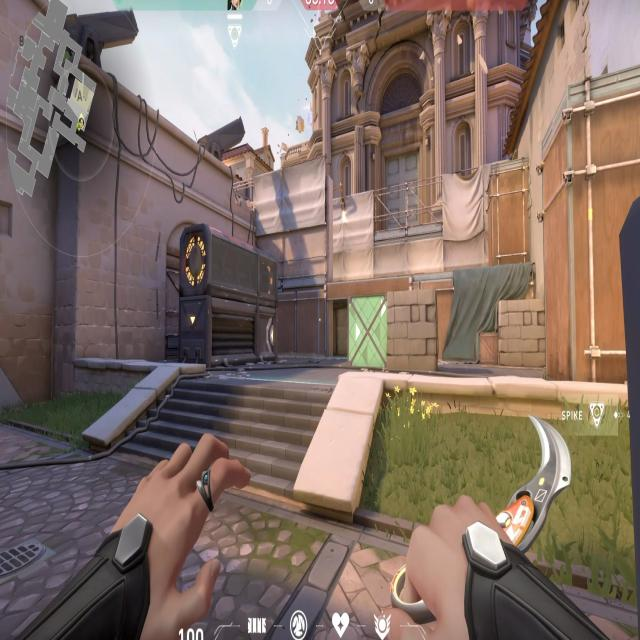A_Heaven_Box: (480, 153, 535, 265)
A_Heaven_Wall: (257, 154, 344, 282)
A_Site_Box: (344, 283, 444, 376)
